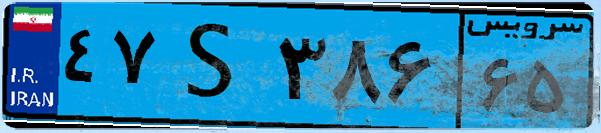3: (270, 28, 330, 110)
4: (57, 26, 110, 100)
5: (525, 38, 570, 115)
6: (385, 28, 445, 110), (475, 38, 525, 113)
7: (110, 28, 158, 98)
8: (330, 28, 385, 110)
S: (158, 12, 270, 120)
